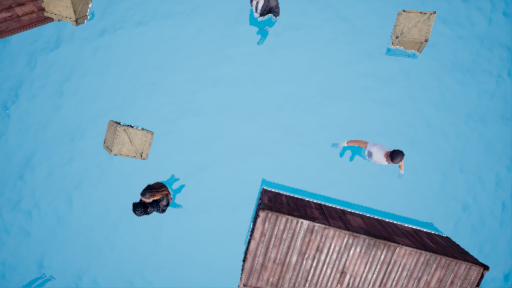person: (125, 176, 199, 221), (336, 137, 411, 178), (243, 1, 290, 56)
